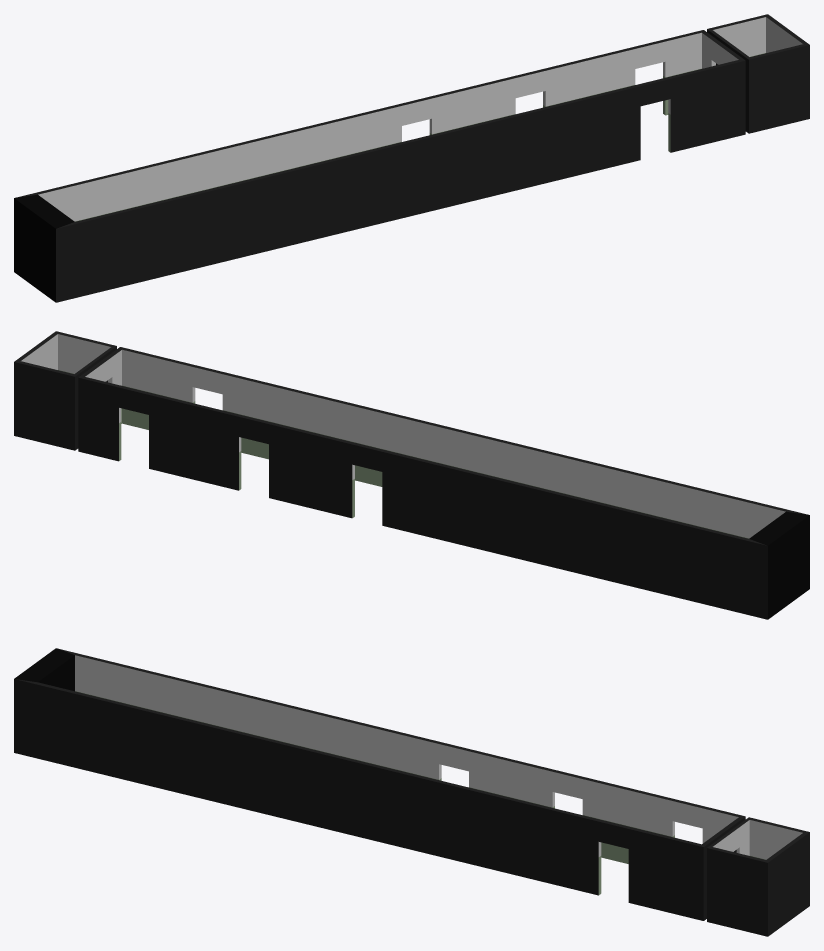
Rendered from hallway-walls.fbx.
3 views of the same model, one above another, from view 1: azimuth 30°, elevation 25°; view 2: azimuth 150°, elevation 25°; view 3: azimuth 330°, elevation 25° (orthographic).
Visible parts, largest first — view 1: hallway-hall_insd.001, hallway-hall_insd, hallway_wall, hallway_wall.001, brick-wall.003, contorl-room-wall; view 2: hallway-hall_insd.001, hallway-hall_insd, hallway_wall, hallway_wall.001, brick-wall.003, contorl-room-wall; view 3: hallway-hall_insd.001, hallway-hall_insd, hallway_wall.001, hallway_wall, brick-wall.003, contorl-room-wall.
Boxes of the visible parts, <box> form: hallway-hall_insd.001: <box>14,114,398,302</box>; hallway-hall_insd: <box>357,30,745,218</box>; hallway_wall: <box>359,32,738,152</box>; hallway_wall.001: <box>38,116,359,221</box>; brick-wall.003: <box>707,14,809,133</box>; contorl-room-wall: <box>713,17,802,56</box>; hallway-hall_insd.001: <box>425,431,809,619</box>; hallway-hall_insd: <box>78,347,466,535</box>; hallway_wall: <box>85,349,464,517</box>; hallway_wall.001: <box>464,433,785,538</box>; brick-wall.003: <box>14,331,116,450</box>; contorl-room-wall: <box>21,334,110,373</box>; hallway-hall_insd.001: <box>14,648,398,836</box>; hallway-hall_insd: <box>356,732,745,920</box>; hallway_wall.001: <box>75,655,396,769</box>; hallway_wall: <box>396,733,738,895</box>; brick-wall.003: <box>707,817,809,936</box>; contorl-room-wall: <box>713,820,802,859</box>.
Size of the model in its own units: 35.2 by 3.4 by 3.3.
Materials: 1 (1 with a texture image).
